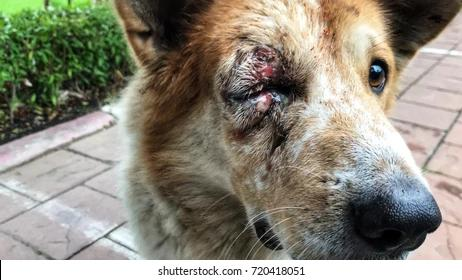infection: (194, 19, 327, 172)
